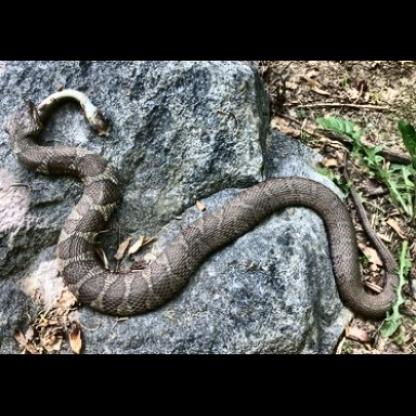Snake: (6, 84, 414, 332)
